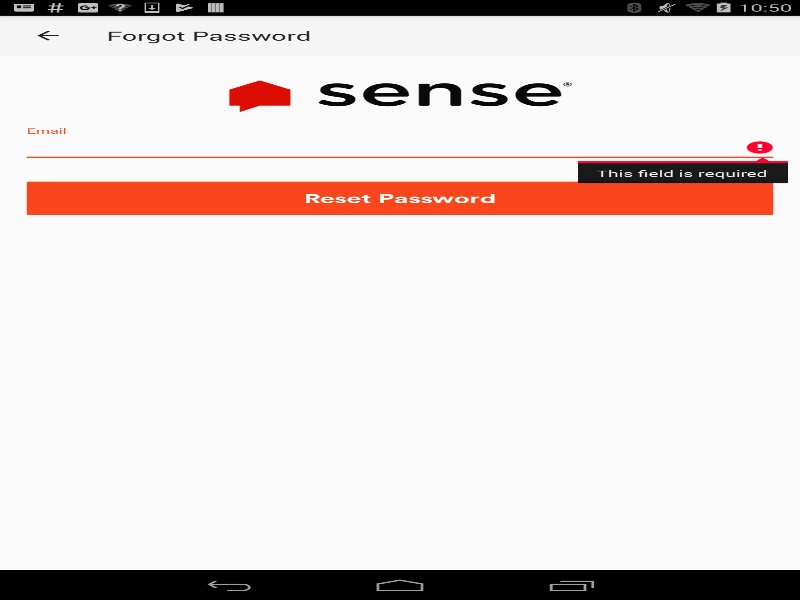Button: (21, 177, 778, 218), (10, 15, 85, 55)
Input: (21, 133, 778, 162)
